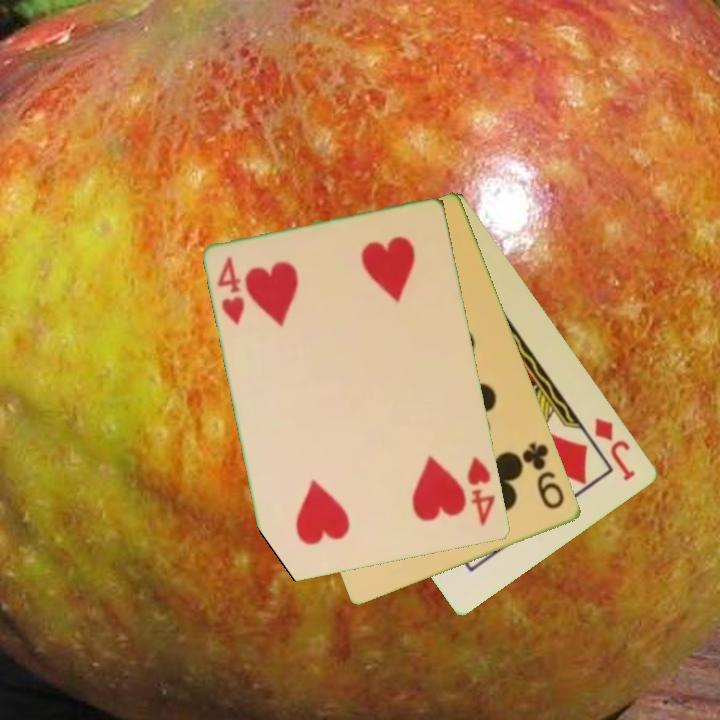4h: (463, 453, 499, 529), (214, 253, 248, 328)
9c: (519, 439, 568, 513)
Jd: (591, 413, 639, 484)
